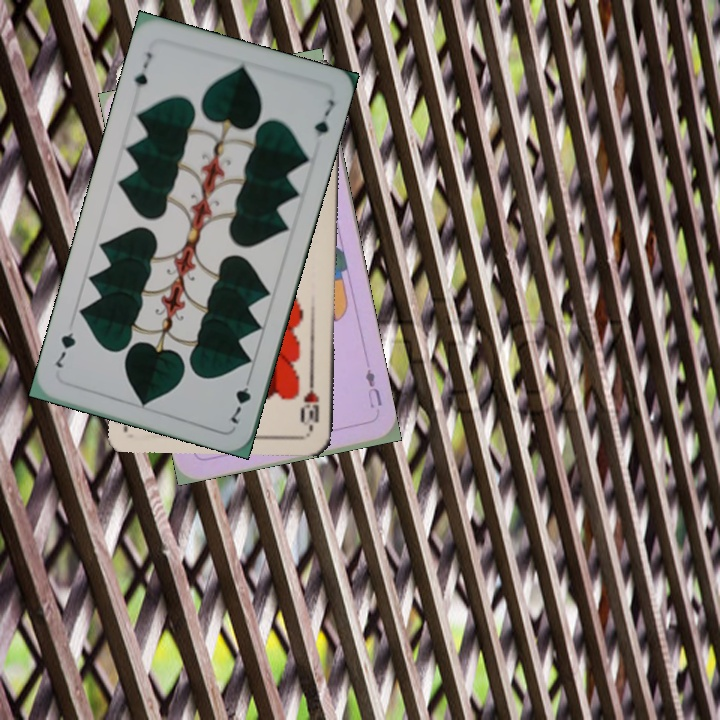EU: (361, 365, 385, 411)
G7: (226, 370, 255, 426), (130, 48, 155, 90)
H10: (299, 373, 322, 432)
